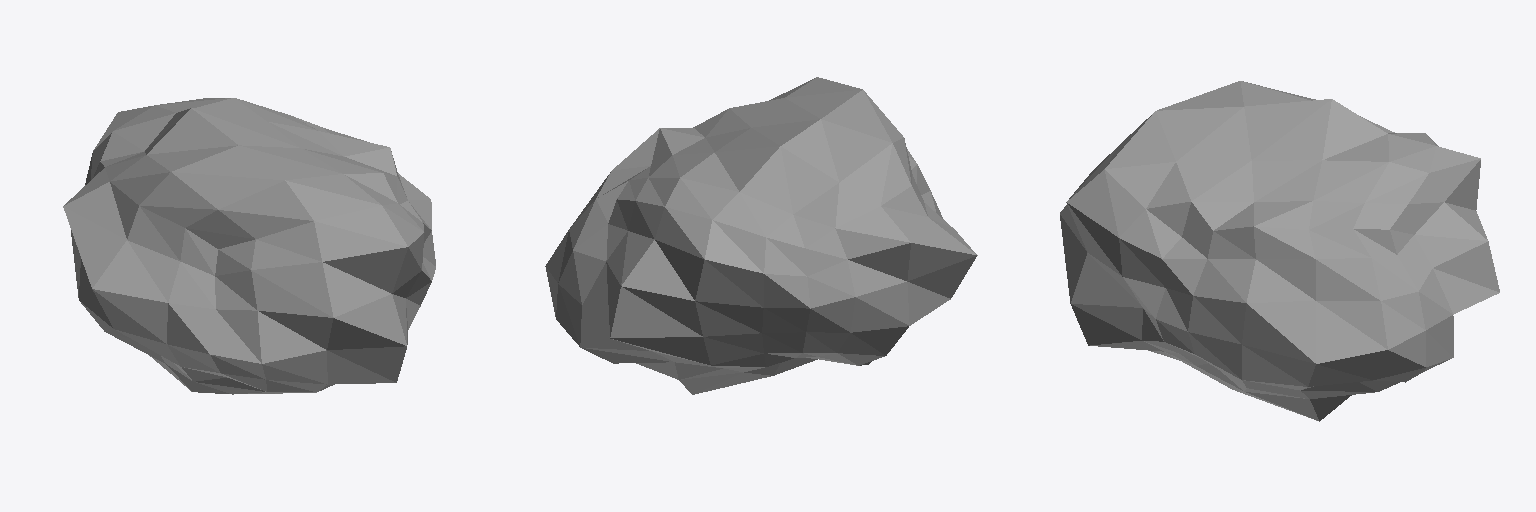
File: asteroid.obj
3 renders of one model, left to right at view 1: azimuth 30°, elevation 25°; view 2: azimuth 150°, elevation 25°; view 3: azimuth 270°, elevation 25°, orthographic.
Parts seen in each view (by area): view 1: Surface6, Surface1, Surface3, Surface4, Surface2, Surface5; view 2: Surface5, Surface1, Surface3, Surface4, Surface2, Surface6; view 3: Surface4, Surface1, Surface6, Surface5, Surface2.
Boxes of the visible parts, x1,y1,x2,y2 form: Surface6: [210, 203, 431, 391]; Surface1: [100, 98, 397, 248]; Surface3: [63, 162, 226, 381]; Surface4: [322, 127, 435, 279]; Surface2: [149, 355, 316, 394]; Surface5: [85, 105, 154, 184]; Surface5: [556, 199, 810, 367]; Surface1: [617, 77, 911, 247]; Surface3: [797, 174, 977, 365]; Surface4: [545, 128, 659, 316]; Surface2: [636, 357, 871, 394]; Surface6: [907, 149, 942, 218]; Surface4: [1156, 226, 1425, 390]; Surface1: [1105, 81, 1435, 236]; Surface6: [1060, 148, 1181, 353]; Surface5: [1390, 136, 1499, 380]; Surface2: [1148, 350, 1399, 421].
Bounding box in the file's own units: 3.01 × 2.13 × 3.08.